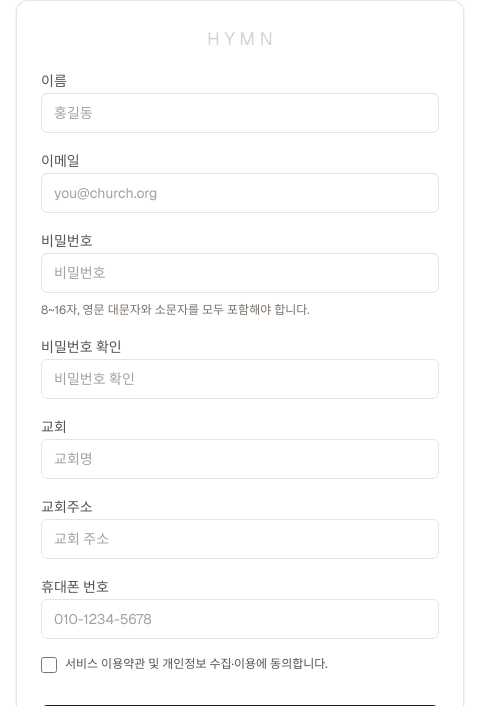
회원가입 이메일 자동 조회 › 늦게 도착한 옛 주소의 응답이 새 주소의 판정을 덮지 않아야 한다
In the field labelled "이메일": (240, 193) top-left (41, 173), bottom-right (439, 213), type "slow-taken@example.com"
Wait 500 ms
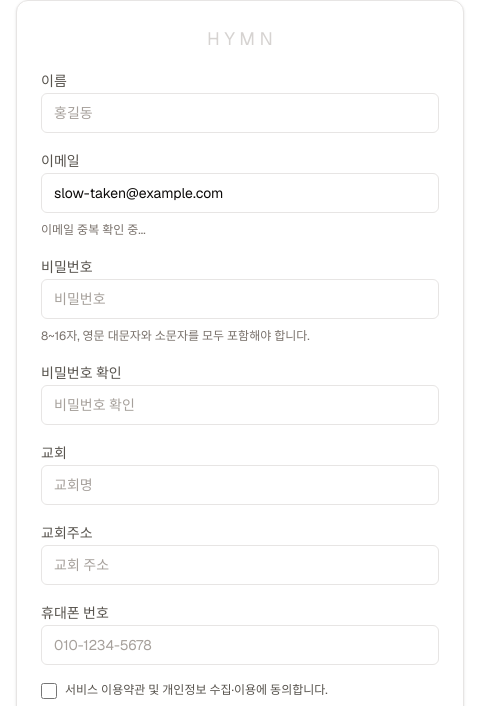
Replace the text in the field labelled "이메일" with "quick-free@example.com": (240, 193) top-left (41, 173), bottom-right (439, 213)
Wait 1000 ms
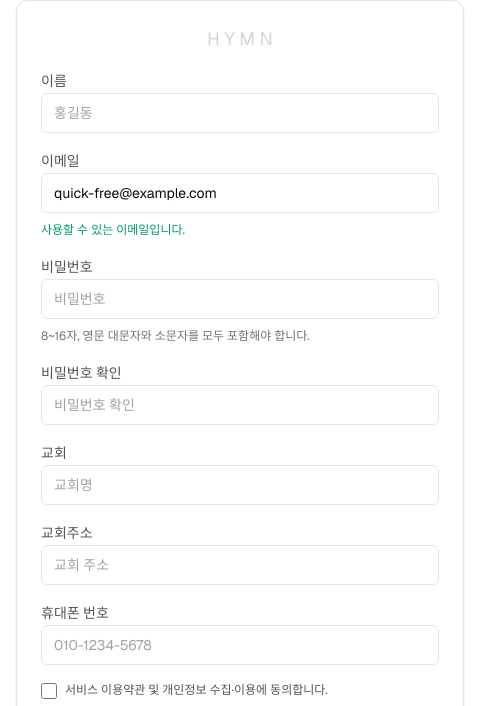
Now the text "사용할 수 있는 이메일입니다." is shown, box top-left (41, 222), bottom-right (185, 238)
